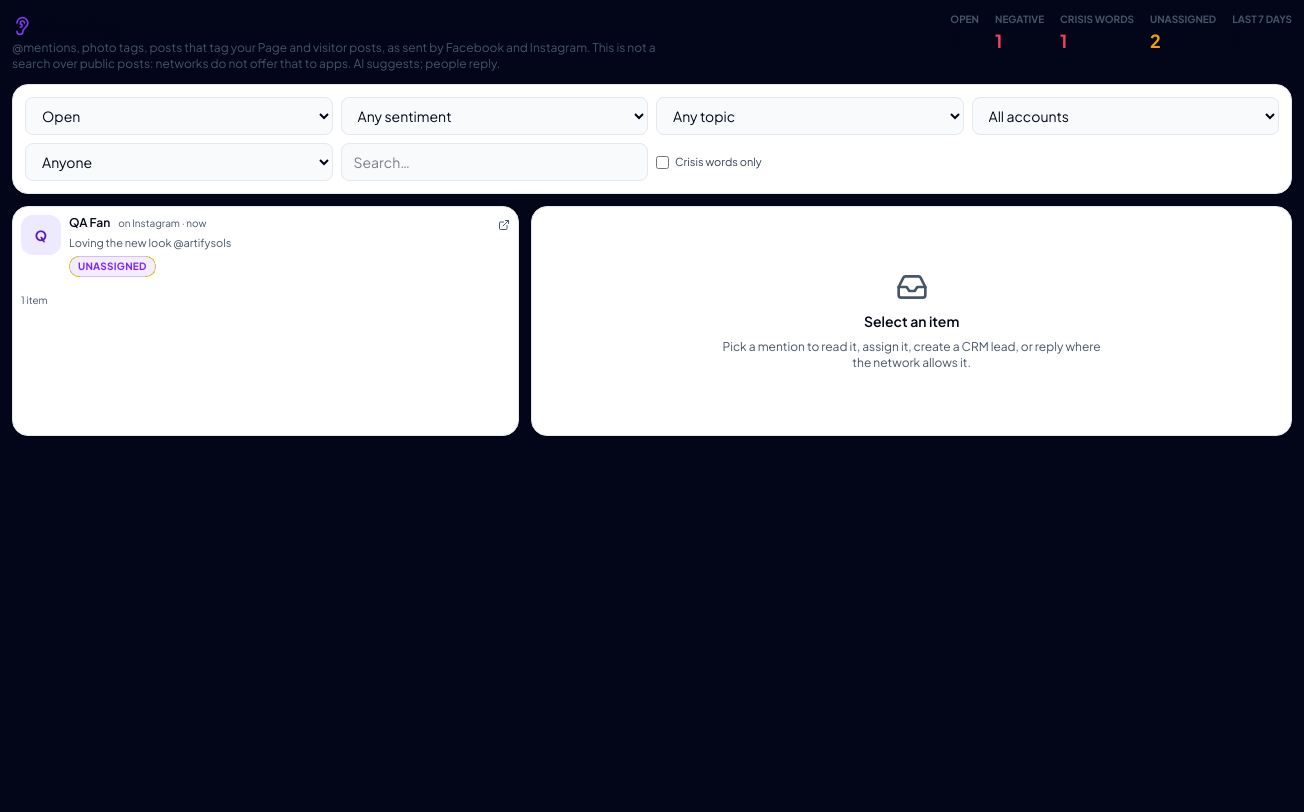
Test: SocialListeningPage › opens an item with a reply box when the network allows replies, and links to it
The width and height of the screenshot is (1304, 812).
Click the button "QA Fan".
click(41, 235)  # box [13, 207, 518, 284]
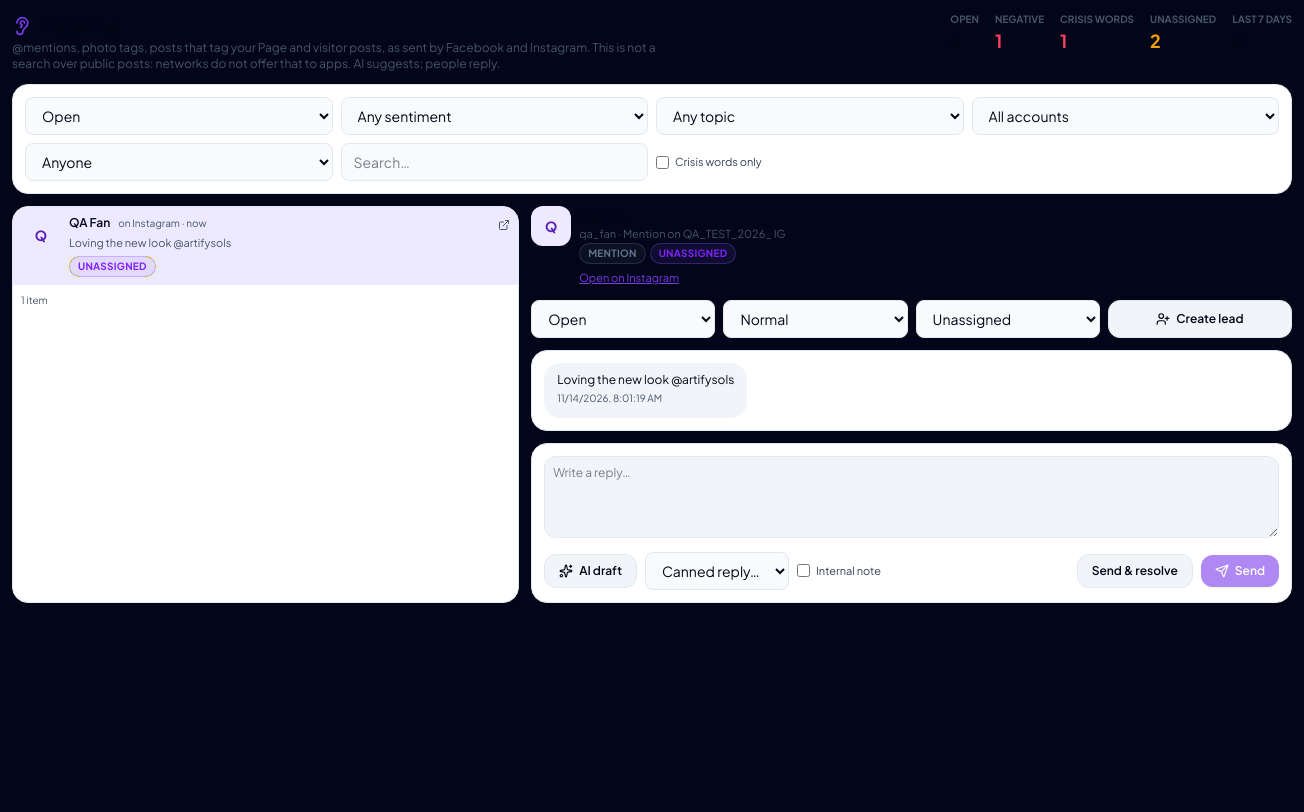
Now the element named "Reply" is shown, box [531, 443, 1292, 603]
